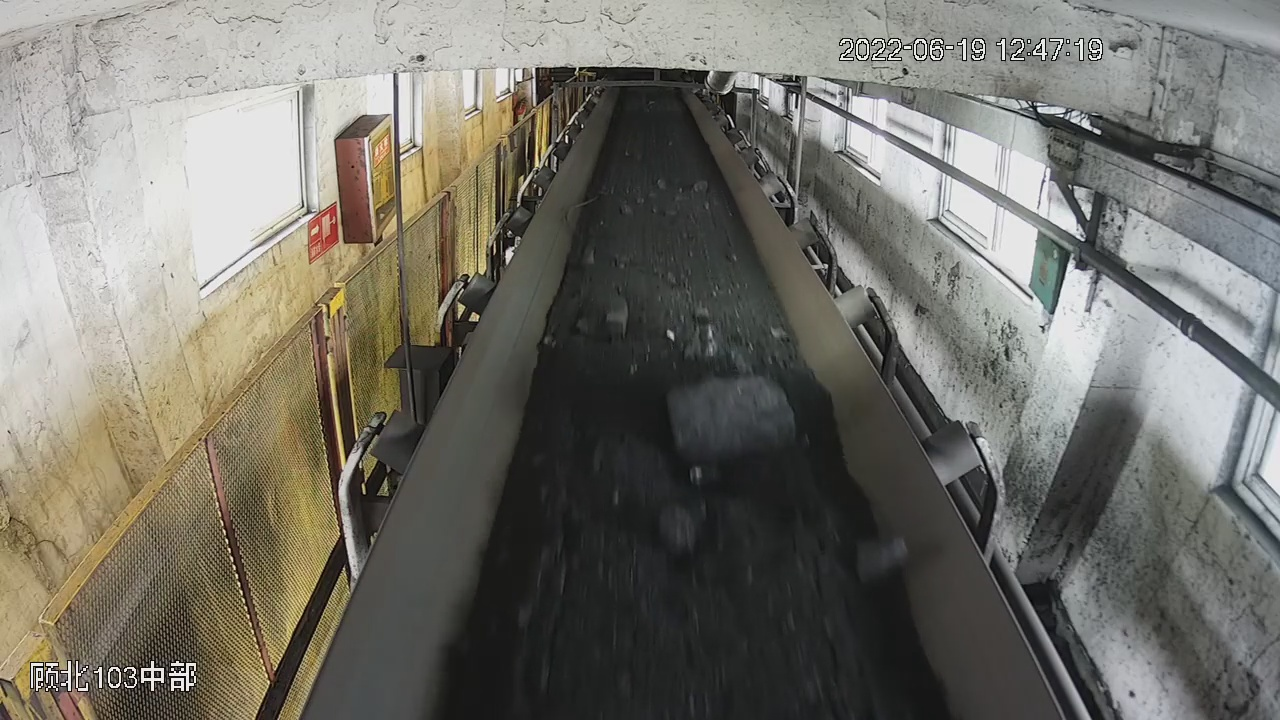gangue: (668, 375, 796, 464), (686, 309, 730, 367), (857, 540, 913, 583), (658, 499, 698, 556), (579, 298, 629, 337), (693, 179, 708, 196)
